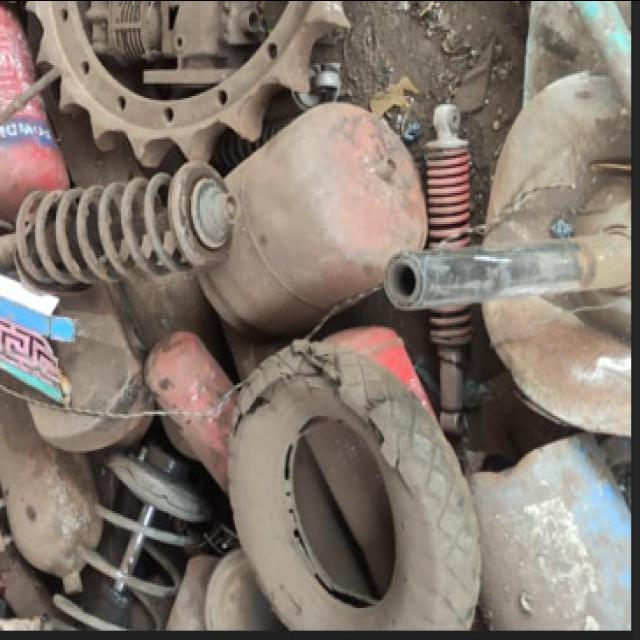shock absorber: (40, 439, 215, 632), (2, 160, 241, 293), (425, 103, 477, 433)
